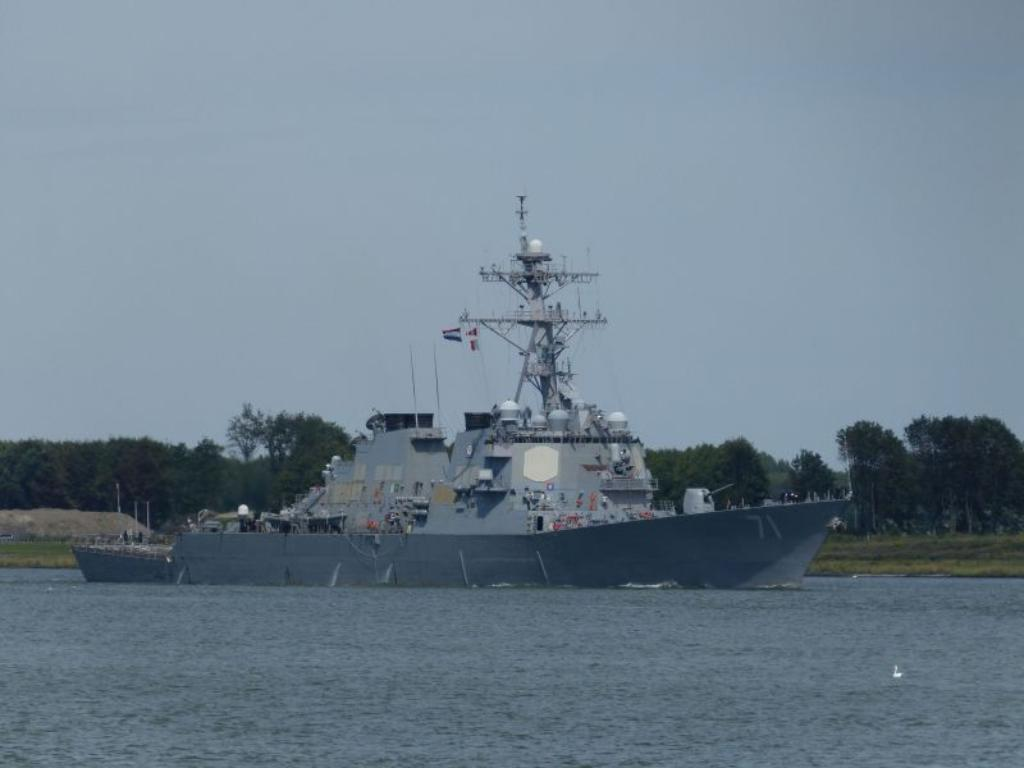Warship: (63, 184, 865, 596)
